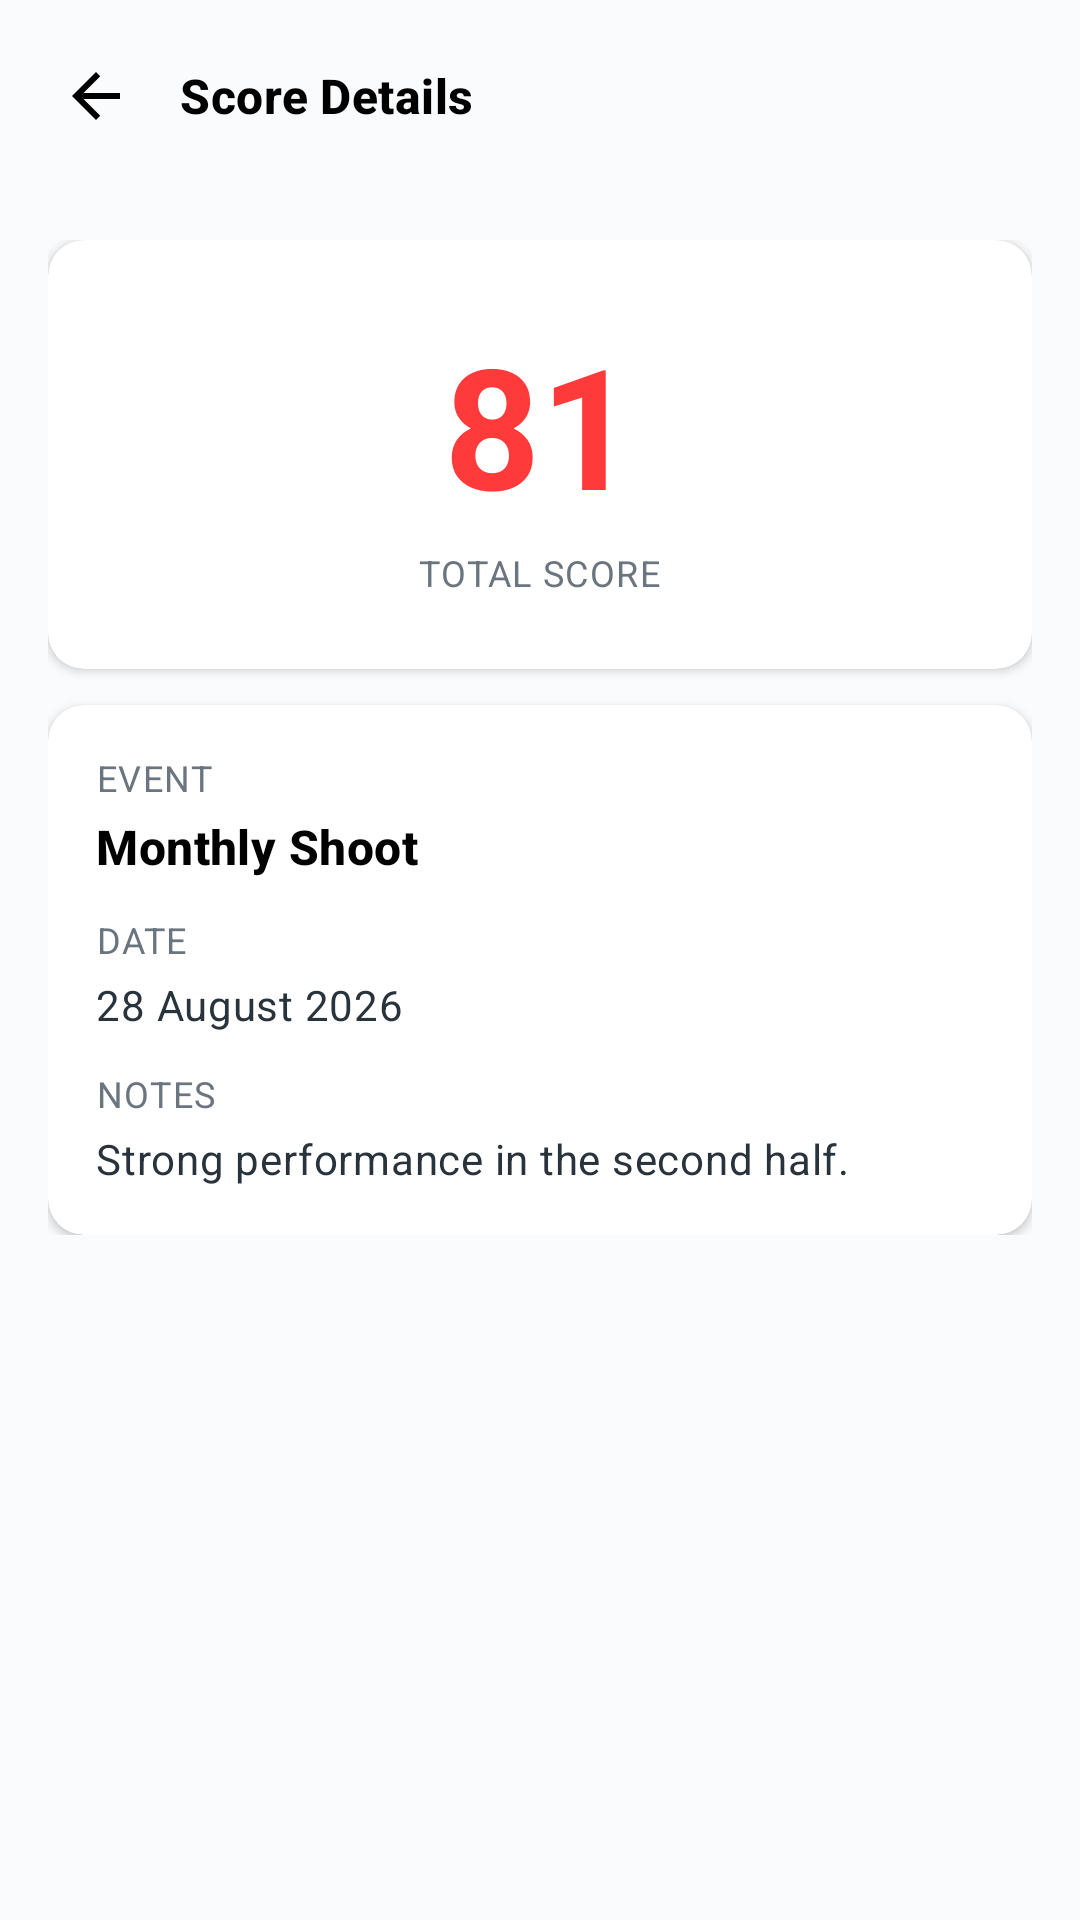

Screen size 1080 × 1920. Icon name, then its box in pixels as bbox=[x1, y1, x2, y2]:
Back: bbox=[72, 72, 120, 120]
